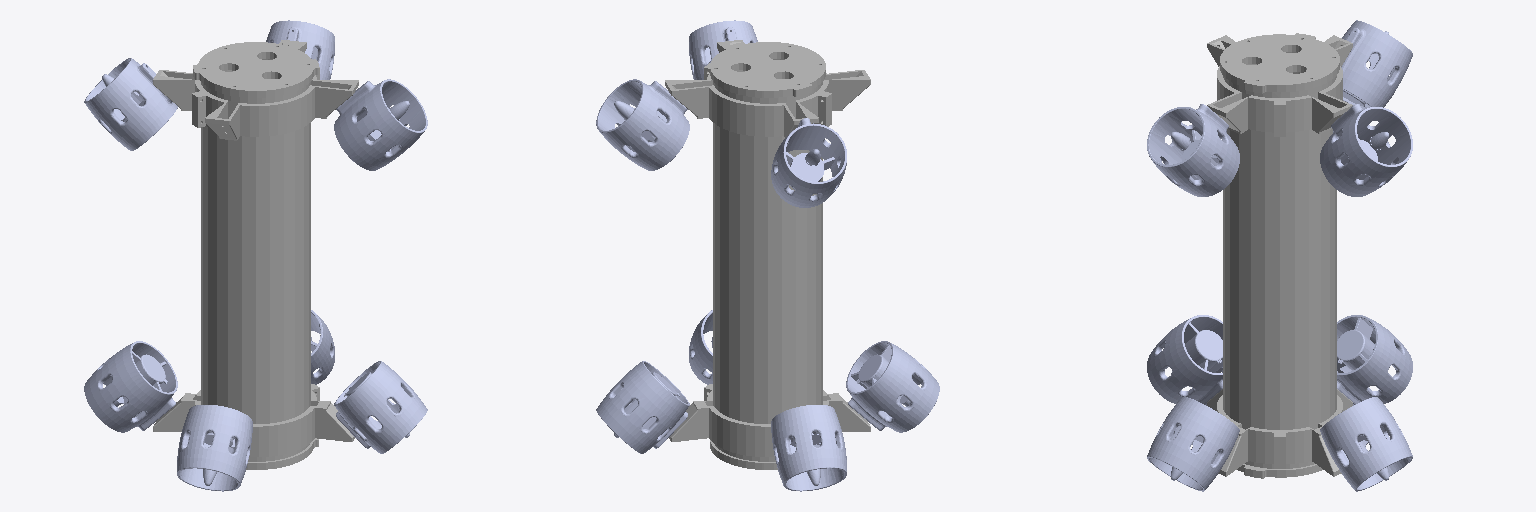
URDF robot description (proto_type):
<?xml version="1.0" encoding="utf-8"?>
<!-- This URDF was automatically created by SolidWorks to URDF Exporter! Originally created by Stephen Brawner (brawner@gmail.com) 
     Commit Version:   Build Version: 1.6.9305.33219
     For more information, please see http://wiki.ros.org/sw_urdf_exporter -->
<robot
  name="proto_type">
  <link
    name="base_link">
    <inertial>
      <origin
        xyz="-4.2558171182705E-06 1.1225964209836E-05 -0.215899999907217"
        rpy="0 0 0" />
      <mass
        value="1.90859968353568" />
      <inertia
        ixx="0.0162419971330382"
        ixy="4.56271680930171E-05"
        ixz="-4.69435220066161E-11"
        iyy="0.0168438204899763"
        iyz="-1.78508266758785E-11"
        izz="0.0050226778184606" />
    </inertial>
    <visual>
      <origin
        xyz="0 0 0"
        rpy="0 0 0" />
      <geometry>
        <mesh
          filename="package://proto_type/meshes/base_link.STL" />
      </geometry>
      <material
        name="">
        <color
          rgba="0.752941176470588 0.752941176470588 0.752941176470588 1" />
      </material>
    </visual>
    <collision>
      <origin
        xyz="0 0 0"
        rpy="0 0 0" />
      <geometry>
        <mesh
          filename="package://proto_type/meshes/base_link.STL" />
      </geometry>
    </collision>
  </link>
  <link
    name="thruster_0">
    <inertial>
      <origin
        xyz="-0.014292 -0.0143 0.017717"
        rpy="0 0 0" />
      <mass
        value="0.099392" />
      <inertia
        ixx="7.9154E-05"
        ixy="6.1395E-08"
        ixz="-3.7817E-06"
        iyy="7.9136E-05"
        iyz="-3.804E-06"
        izz="7.672E-05" />
    </inertial>
    <visual>
      <origin
        xyz="0 0 0"
        rpy="0 0 0" />
      <geometry>
        <mesh
          filename="package://proto_type/meshes/thruster_0.STL" />
      </geometry>
      <material
        name="">
        <color
          rgba="0.79216 0.81961 0.93333 1" />
      </material>
    </visual>
    <collision>
      <origin
        xyz="0 0 0"
        rpy="0 0 0" />
      <geometry>
        <mesh
          filename="package://proto_type/meshes/thruster_0.STL" />
      </geometry>
    </collision>
  </link>
  <joint
    name="thruster_0"
    type="continuous">
    <origin
      xyz="0.10964 0.096917 -0.39159"
      rpy="0 0 0" />
    <parent
      link="base_link" />
    <child
      link="thruster_0" />
    <axis
      xyz="-0.5 -0.5 0.70711" />
  </joint>
  <link
    name="thruster_1">
    <inertial>
      <origin
        xyz="0.0143 -0.014292 0.017717"
        rpy="0 0 0" />
      <mass
        value="0.099392" />
      <inertia
        ixx="7.9136E-05"
        ixy="-6.1395E-08"
        ixz="3.804E-06"
        iyy="7.9154E-05"
        iyz="-3.7817E-06"
        izz="7.672E-05" />
    </inertial>
    <visual>
      <origin
        xyz="0 0 0"
        rpy="0 0 0" />
      <geometry>
        <mesh
          filename="package://proto_type/meshes/thruster_1.STL" />
      </geometry>
      <material
        name="">
        <color
          rgba="0.79216 0.81961 0.93333 1" />
      </material>
    </visual>
    <collision>
      <origin
        xyz="0 0 0"
        rpy="0 0 0" />
      <geometry>
        <mesh
          filename="package://proto_type/meshes/thruster_1.STL" />
      </geometry>
    </collision>
  </link>
  <joint
    name="thruster_1"
    type="continuous">
    <origin
      xyz="-0.10964 0.096917 -0.39159"
      rpy="0 0 0" />
    <parent
      link="base_link" />
    <child
      link="thruster_1" />
    <axis
      xyz="0.5 -0.5 0.70711" />
  </joint>
  <link
    name="thruster_2">
    <inertial>
      <origin
        xyz="-0.0143 0.014292 0.017717"
        rpy="0 0 0" />
      <mass
        value="0.099392" />
      <inertia
        ixx="7.9136E-05"
        ixy="-6.1395E-08"
        ixz="-3.804E-06"
        iyy="7.9154E-05"
        iyz="3.7817E-06"
        izz="7.672E-05" />
    </inertial>
    <visual>
      <origin
        xyz="0 0 0"
        rpy="0 0 0" />
      <geometry>
        <mesh
          filename="package://proto_type/meshes/thruster_2.STL" />
      </geometry>
      <material
        name="">
        <color
          rgba="0.79216 0.81961 0.93333 1" />
      </material>
    </visual>
    <collision>
      <origin
        xyz="0 0 0"
        rpy="0 0 0" />
      <geometry>
        <mesh
          filename="package://proto_type/meshes/thruster_2.STL" />
      </geometry>
    </collision>
  </link>
  <joint
    name="thruster_2"
    type="continuous">
    <origin
      xyz="0.10964 -0.096917 -0.39159"
      rpy="0 0 0" />
    <parent
      link="base_link" />
    <child
      link="thruster_2" />
    <axis
      xyz="-0.5 0.5 0.70711" />
  </joint>
  <link
    name="thruster_3">
    <inertial>
      <origin
        xyz="0.014292 0.0143 0.017717"
        rpy="0 0 0" />
      <mass
        value="0.099392" />
      <inertia
        ixx="7.9154E-05"
        ixy="6.1395E-08"
        ixz="3.7817E-06"
        iyy="7.9136E-05"
        iyz="3.804E-06"
        izz="7.672E-05" />
    </inertial>
    <visual>
      <origin
        xyz="0 0 0"
        rpy="0 0 0" />
      <geometry>
        <mesh
          filename="package://proto_type/meshes/thruster_3.STL" />
      </geometry>
      <material
        name="">
        <color
          rgba="0.79216 0.81961 0.93333 1" />
      </material>
    </visual>
    <collision>
      <origin
        xyz="0 0 0"
        rpy="0 0 0" />
      <geometry>
        <mesh
          filename="package://proto_type/meshes/thruster_3.STL" />
      </geometry>
    </collision>
  </link>
  <joint
    name="thruster_3"
    type="continuous">
    <origin
      xyz="-0.10964 -0.096917 -0.39159"
      rpy="0 0 0" />
    <parent
      link="base_link" />
    <child
      link="thruster_3" />
    <axis
      xyz="0.5 0.5 0.70711" />
  </joint>
  <link
    name="thruster_4">
    <inertial>
      <origin
        xyz="0.014292 -0.0143 -0.017717"
        rpy="0 0 0" />
      <mass
        value="0.099392" />
      <inertia
        ixx="7.9154E-05"
        ixy="-6.1395E-08"
        ixz="-3.7817E-06"
        iyy="7.9136E-05"
        iyz="3.804E-06"
        izz="7.672E-05" />
    </inertial>
    <visual>
      <origin
        xyz="0 0 0"
        rpy="0 0 0" />
      <geometry>
        <mesh
          filename="package://proto_type/meshes/thruster_4.STL" />
      </geometry>
      <material
        name="">
        <color
          rgba="0.79216 0.81961 0.93333 1" />
      </material>
    </visual>
    <collision>
      <origin
        xyz="0 0 0"
        rpy="0 0 0" />
      <geometry>
        <mesh
          filename="package://proto_type/meshes/thruster_4.STL" />
      </geometry>
    </collision>
  </link>
  <joint
    name="thruster_4"
    type="continuous">
    <origin
      xyz="-0.10964 0.096917 -0.040214"
      rpy="0 0 0" />
    <parent
      link="base_link" />
    <child
      link="thruster_4" />
    <axis
      xyz="0.5 -0.5 -0.70711" />
  </joint>
  <link
    name="thruster_5">
    <inertial>
      <origin
        xyz="0.204989569717696 -0.0142922441746005 -0.0177167300549156"
        rpy="0 0 0" />
      <mass
        value="0.0993924873705004" />
      <inertia
        ixx="7.91363117744372E-05"
        ixy="6.13947103624969E-08"
        ixz="3.80401853538402E-06"
        iyy="7.91541243411415E-05"
        iyz="3.781720562086E-06"
        izz="7.67197078219348E-05" />
    </inertial>
    <visual>
      <origin
        xyz="0 0 0"
        rpy="0 0 0" />
      <geometry>
        <mesh
          filename="package://proto_type/meshes/thruster_5.STL" />
      </geometry>
      <material
        name="">
        <color
          rgba="0.792156862745098 0.819607843137255 0.933333333333333 1" />
      </material>
    </visual>
    <collision>
      <origin
        xyz="0 0 0"
        rpy="0 0 0" />
      <geometry>
        <mesh
          filename="package://proto_type/meshes/thruster_5.STL" />
      </geometry>
    </collision>
  </link>
  <joint
    name="thruster_5"
    type="continuous">
    <origin
      xyz="-0.10964 0.096917 -0.040214"
      rpy="0 0 0" />
    <parent
      link="base_link" />
    <child
      link="thruster_5" />
    <axis
      xyz="-0.5 -0.5 -0.70711" />
  </joint>
  <link
    name="thruster_6">
    <inertial>
      <origin
        xyz="0.205 0.0143 -0.017717"
        rpy="0 0 0" />
      <mass
        value="0.099392" />
      <inertia
        ixx="7.9154E-05"
        ixy="-6.1395E-08"
        ixz="3.7817E-06"
        iyy="7.9136E-05"
        iyz="-3.804E-06"
        izz="7.672E-05" />
    </inertial>
    <visual>
      <origin
        xyz="0 0 0"
        rpy="0 0 0" />
      <geometry>
        <mesh
          filename="package://proto_type/meshes/thruster_6.STL" />
      </geometry>
      <material
        name="">
        <color
          rgba="0.79216 0.81961 0.93333 1" />
      </material>
    </visual>
    <collision>
      <origin
        xyz="0 0 0"
        rpy="0 0 0" />
      <geometry>
        <mesh
          filename="package://proto_type/meshes/thruster_6.STL" />
      </geometry>
    </collision>
  </link>
  <joint
    name="thruster_6"
    type="continuous">
    <origin
      xyz="-0.10964 -0.096917 -0.040214"
      rpy="0 0 0" />
    <parent
      link="base_link" />
    <child
      link="thruster_6" />
    <axis
      xyz="0.5 0.5 -0.70711" />
  </joint>
  <link
    name="thruster_7">
    <inertial>
      <origin
        xyz="-0.014292 0.0143 -0.017717"
        rpy="0 0 0" />
      <mass
        value="0.099392" />
      <inertia
        ixx="7.9154E-05"
        ixy="-6.1395E-08"
        ixz="3.7817E-06"
        iyy="7.9136E-05"
        iyz="-3.804E-06"
        izz="7.672E-05" />
    </inertial>
    <visual>
      <origin
        xyz="0 0 0"
        rpy="0 0 0" />
      <geometry>
        <mesh
          filename="package://proto_type/meshes/thruster_7.STL" />
      </geometry>
      <material
        name="">
        <color
          rgba="0.79216 0.81961 0.93333 1" />
      </material>
    </visual>
    <collision>
      <origin
        xyz="0 0 0"
        rpy="0 0 0" />
      <geometry>
        <mesh
          filename="package://proto_type/meshes/thruster_7.STL" />
      </geometry>
    </collision>
  </link>
  <joint
    name="thruster_7"
    type="continuous">
    <origin
      xyz="0.10964 -0.096917 -0.040214"
      rpy="0 0 0" />
    <parent
      link="base_link" />
    <child
      link="thruster_7" />
    <axis
      xyz="-0.5 0.5 -0.70711" />
  </joint>
</robot>

--- What the picture shows (computed from the rendered views, not written in the file) ---
Views: 3 orthographic renders of the robot side by side, from view 1: azimuth 30°, elevation 25°; view 2: azimuth 150°, elevation 25°; view 3: azimuth 270°, elevation 25°.
Model proto_type with 9 links and 8 joints (8 continuous), rooted at base_link, posed all joints at 0.
Visible links, largest first — view 1: base_link, thruster_1, thruster_3, thruster_7, thruster_2, thruster_4, thruster_5, thruster_0, thruster_6; view 2: base_link, thruster_3, thruster_5, thruster_1, thruster_0, thruster_4, thruster_2, thruster_7, thruster_6; view 3: base_link, thruster_5, thruster_6, thruster_2, thruster_0, thruster_3, thruster_1, thruster_4.
Boxes of the visible links, x1,y1,x2,y2 form: base_link: (153,40,358,469); thruster_1: (84,341,177,432); thruster_3: (177,405,252,491); thruster_7: (334,81,425,170); thruster_2: (334,361,427,453); thruster_4: (84,58,177,150); thruster_5: (266,20,334,79); thruster_0: (311,310,334,384); thruster_6: (354,79,427,170); base_link: (665,40,870,469); thruster_3: (846,341,939,432); thruster_5: (596,79,689,170); thruster_1: (771,405,846,491); thruster_0: (596,361,689,453); thruster_4: (771,118,846,207); thruster_2: (689,310,712,384); thruster_7: (691,20,757,71); thruster_6: (689,22,731,79); base_link: (1207,33,1352,478); thruster_5: (1320,104,1412,196); thruster_6: (1147,104,1239,196); thruster_2: (1147,397,1239,491); thruster_0: (1320,397,1412,491); thruster_3: (1147,315,1222,405); thruster_1: (1337,315,1412,405); thruster_4: (1341,20,1412,109).
Size in the robot's own frame: 0.291 by 0.2656 by 0.4318 metres.
9 mesh visuals loaded from 9 distinct referenced files (9 binary STL).
